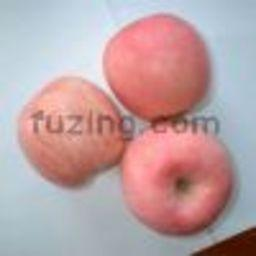apple: (121, 126, 238, 235), (102, 10, 213, 123), (15, 75, 123, 187)
